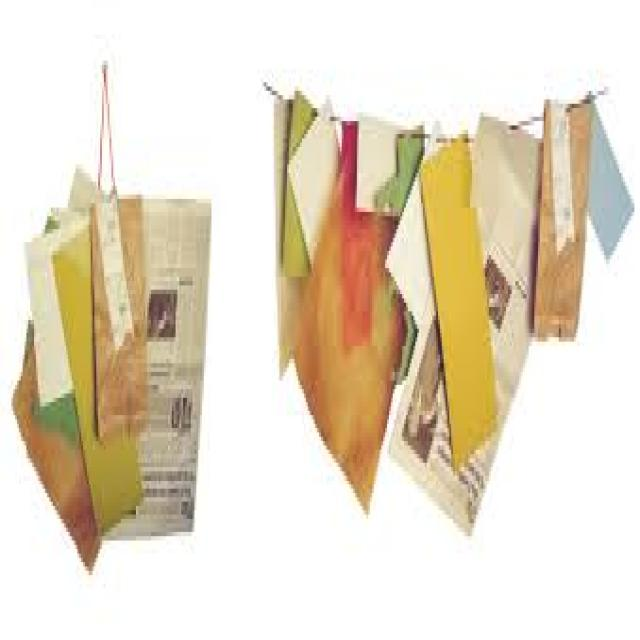PaperCardboard: (272, 91, 634, 539), (15, 161, 209, 551)
